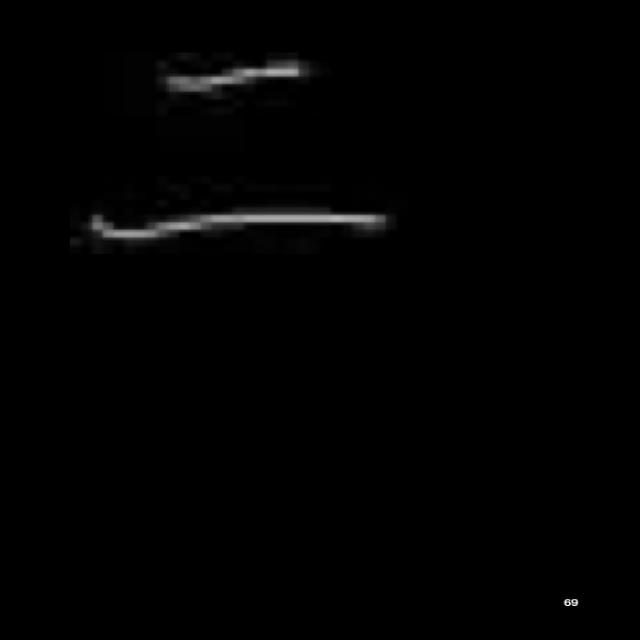2 -two-: (70, 49, 412, 258)
